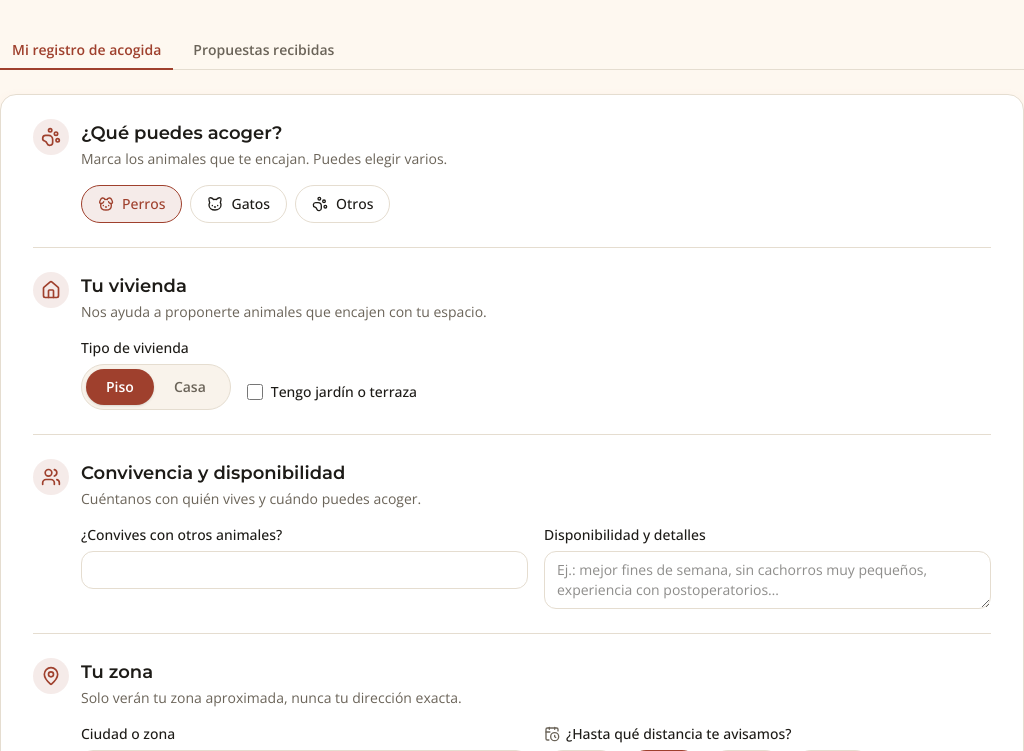
Scenario: MisAcogidasCliente › sin registro, la pestaña de propuestas invita a registrarse
Click the tab "Propuestas recibidas" at (264,51), box [181,32,346,70]
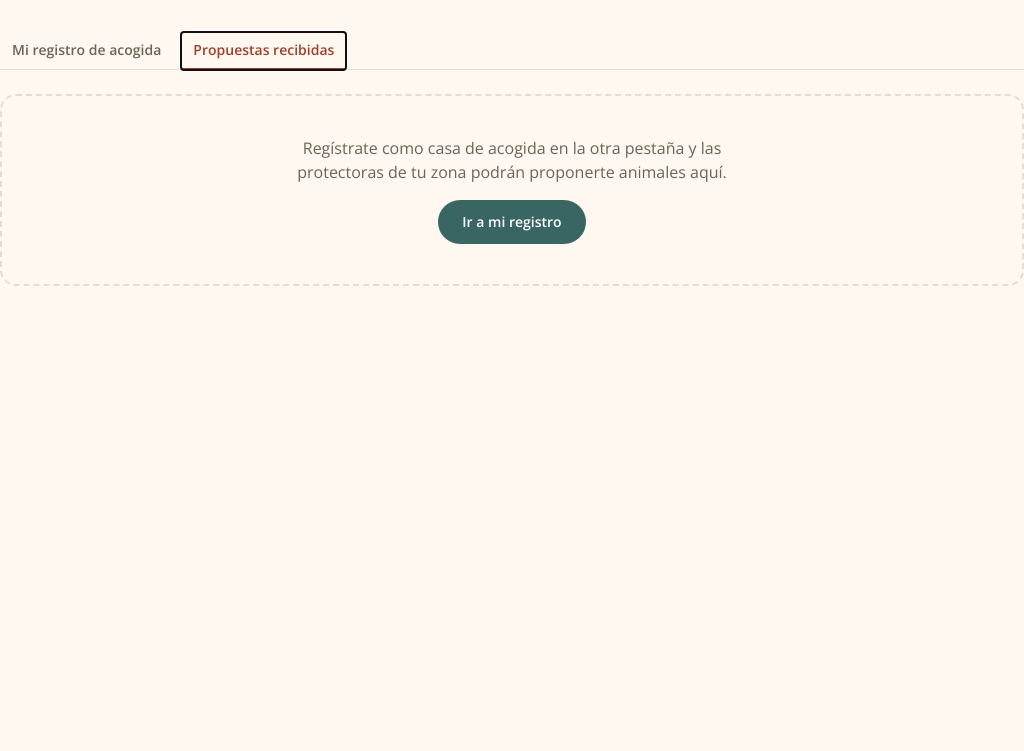
expect the text "Regístrate como casa de acogida en la otra pestaña y las protectoras de tu zona podrán proponerte animales aquí." is shown: met, box [297,137,727,183]
